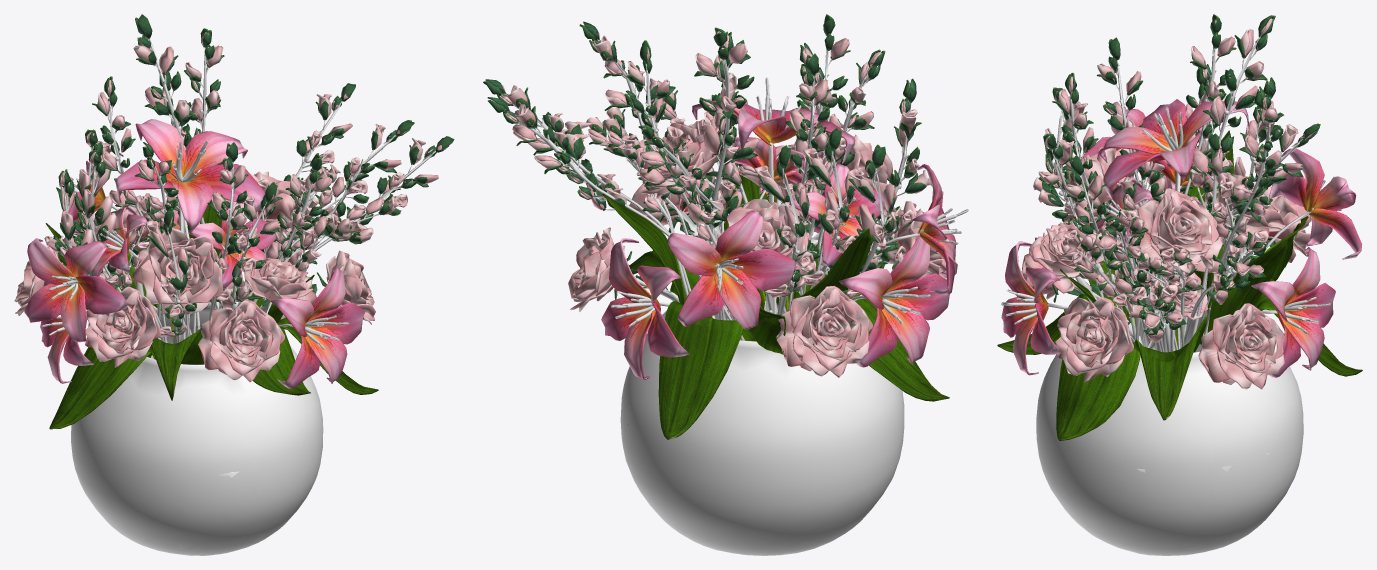
File: flower.glb
3 views of the same model, side by side, from view 1: azimuth 30°, elevation 25°; view 2: azimuth 150°, elevation 25°; view 3: azimuth 270°, elevation 25° (orthographic). The views are drawn at different scales.
Visible parts, largest first — view 1: VASE; view 2: VASE; view 3: VASE.
Part boxes in pixels (x1,y1,x2,y2): VASE: (14, 14, 454, 555); VASE: (483, 14, 968, 555); VASE: (997, 14, 1362, 555).
Size of the model in its own units: 1.53 by 1.67 by 1.09.
9 materials, 4 textured.
